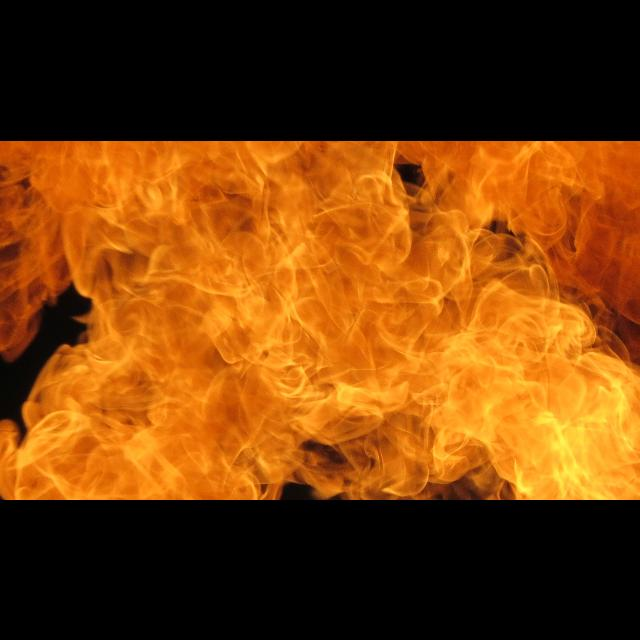fire: (0, 140, 640, 500)
